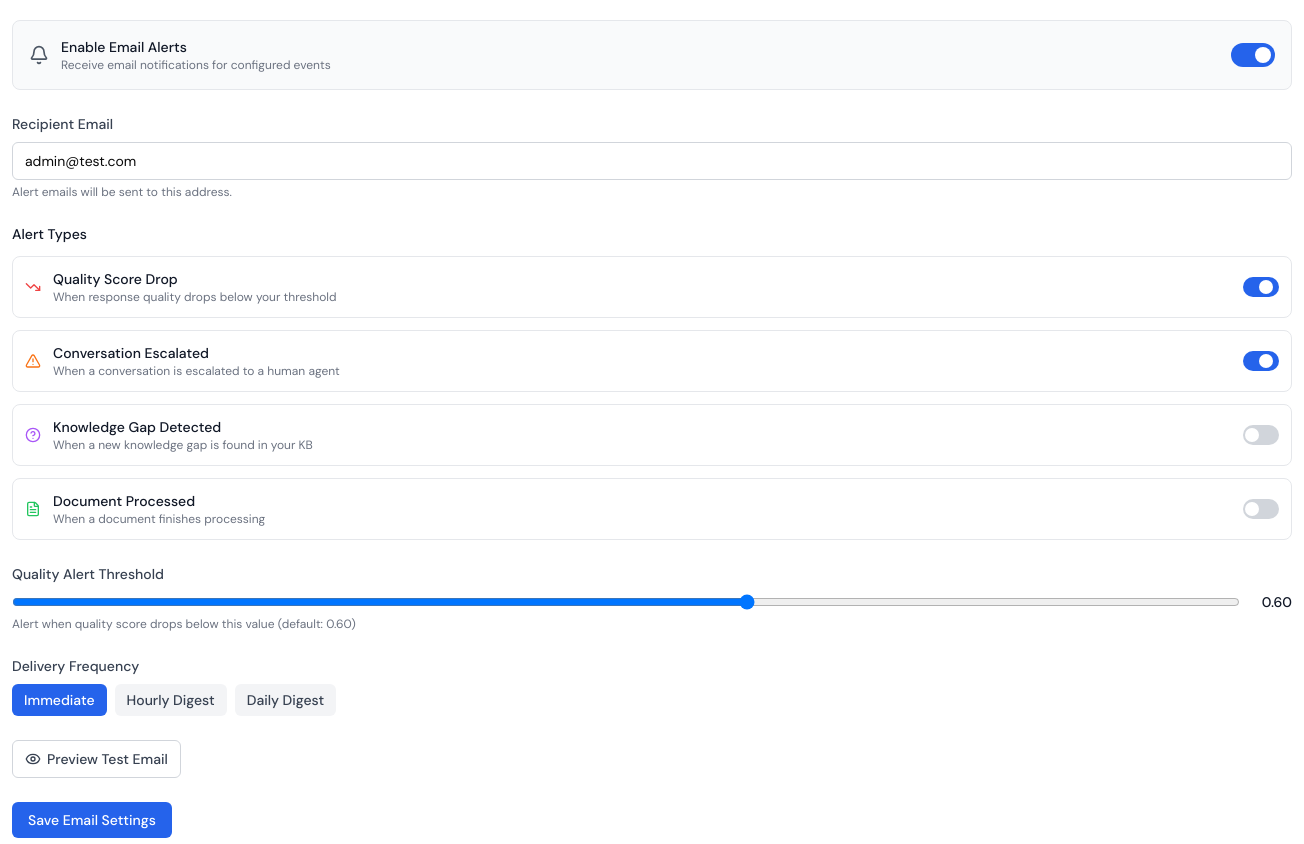
EmailAlertsPanel › generates test email preview
Click the button with test id "test-email-btn": (96, 759) [12,740,181,778]
(page scrolled)
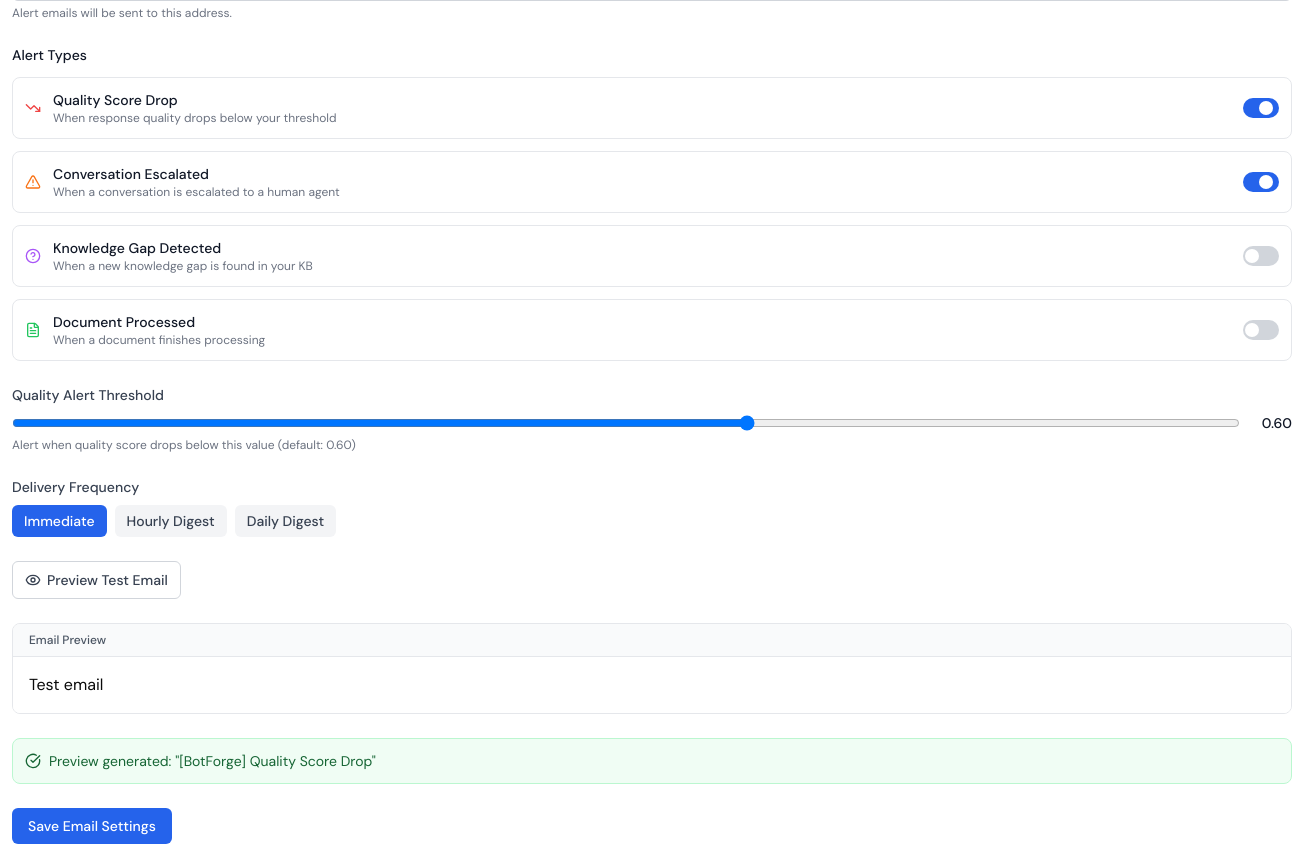
Expected: the element with test id "email-preview" is shown, [12,623,1292,714]
Expected: the element with test id "email-status-message" is shown, [12,738,1292,784]
